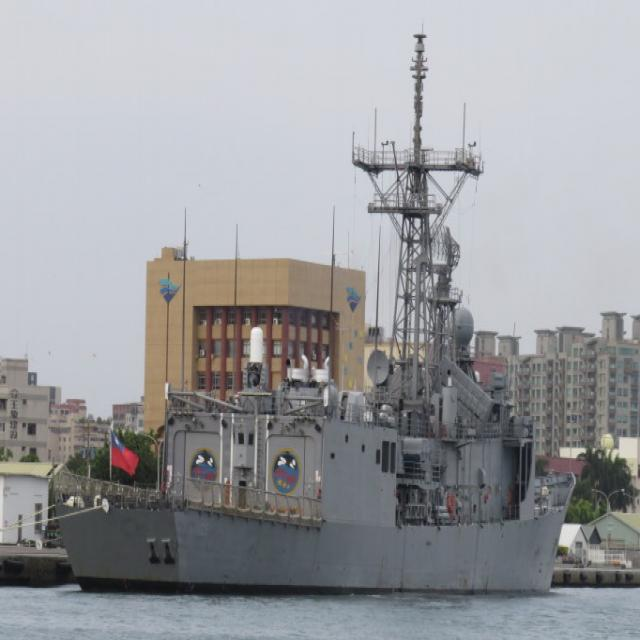Fragata: (46, 17, 584, 599)
